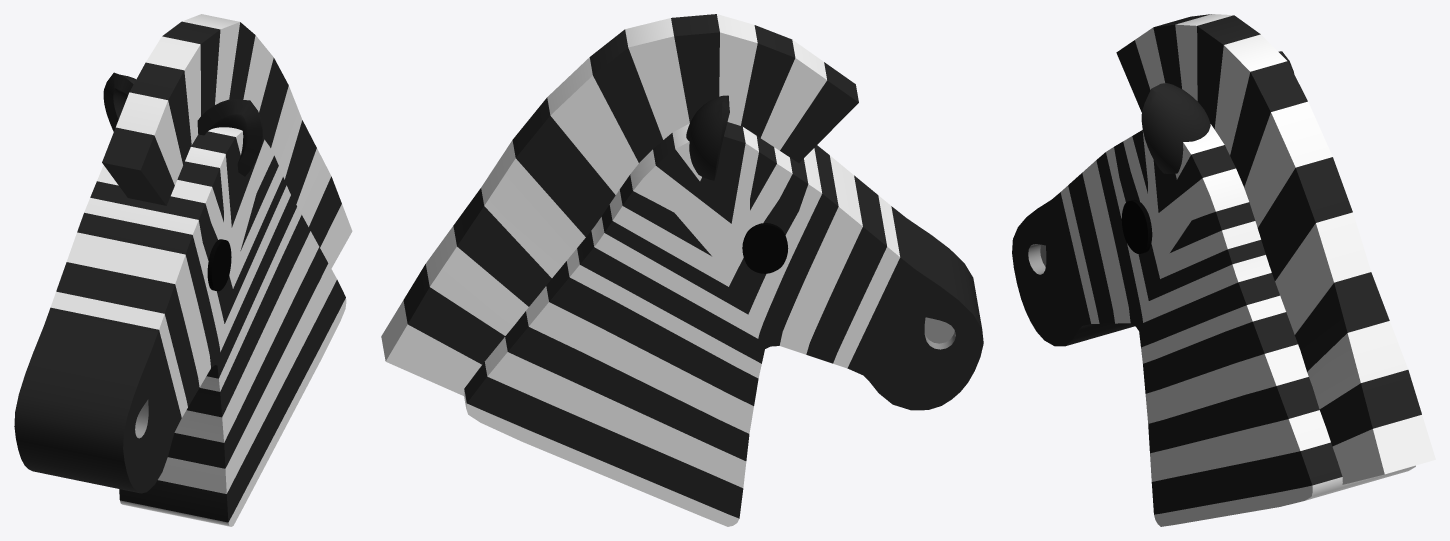
File: zebra.glb
3 views of the same model, side by side, from view 1: azimuth 30°, elevation 25°; view 2: azimuth 150°, elevation 25°; view 3: azimuth 270°, elevation 25° (orthographic). The views are drawn at different scales.
Visible parts, largest first — view 1: Plane.114, Cube.6216, Cube.778, Circle.1882; view 2: Plane.114, Cube.6216, Cube.778, Circle.1882; view 3: Plane.114, Cube.6216, Cube.778, Circle.1882.
Boxes of the visible parts, x1,y1,x2,y2 form: Plane.114: (14,127,346,526); Cube.6216: (102,14,352,268); Cube.778: (103,72,262,176); Circle.1882: (207,239,231,291); Plane.114: (463,122,983,526); Cube.6216: (381,14,858,395); Cube.778: (686,95,729,180); Circle.1882: (742,223,788,273); Plane.114: (1012,124,1415,526); Cube.6216: (1116,14,1435,484); Cube.778: (1141,51,1294,173); Circle.1882: (1121,199,1152,253).
Size of the model in its own units: 2.25 by 2.17 by 1.69.
1 material, 1 textured.
